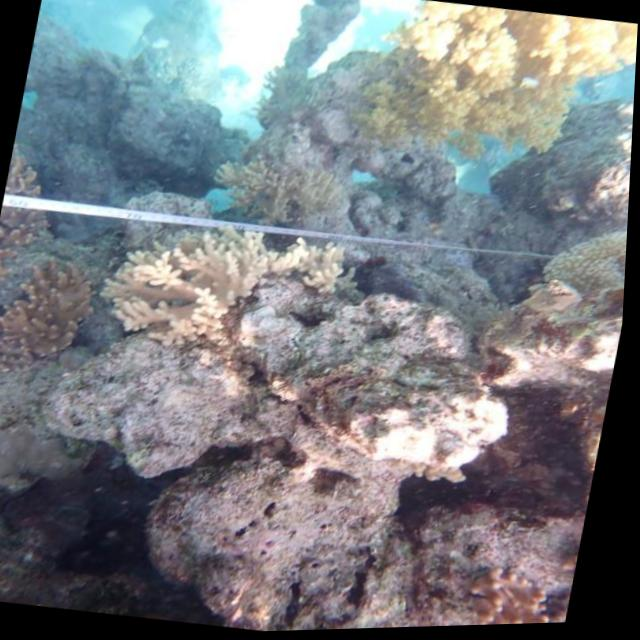Bleached Coral: (110, 213, 375, 373)
